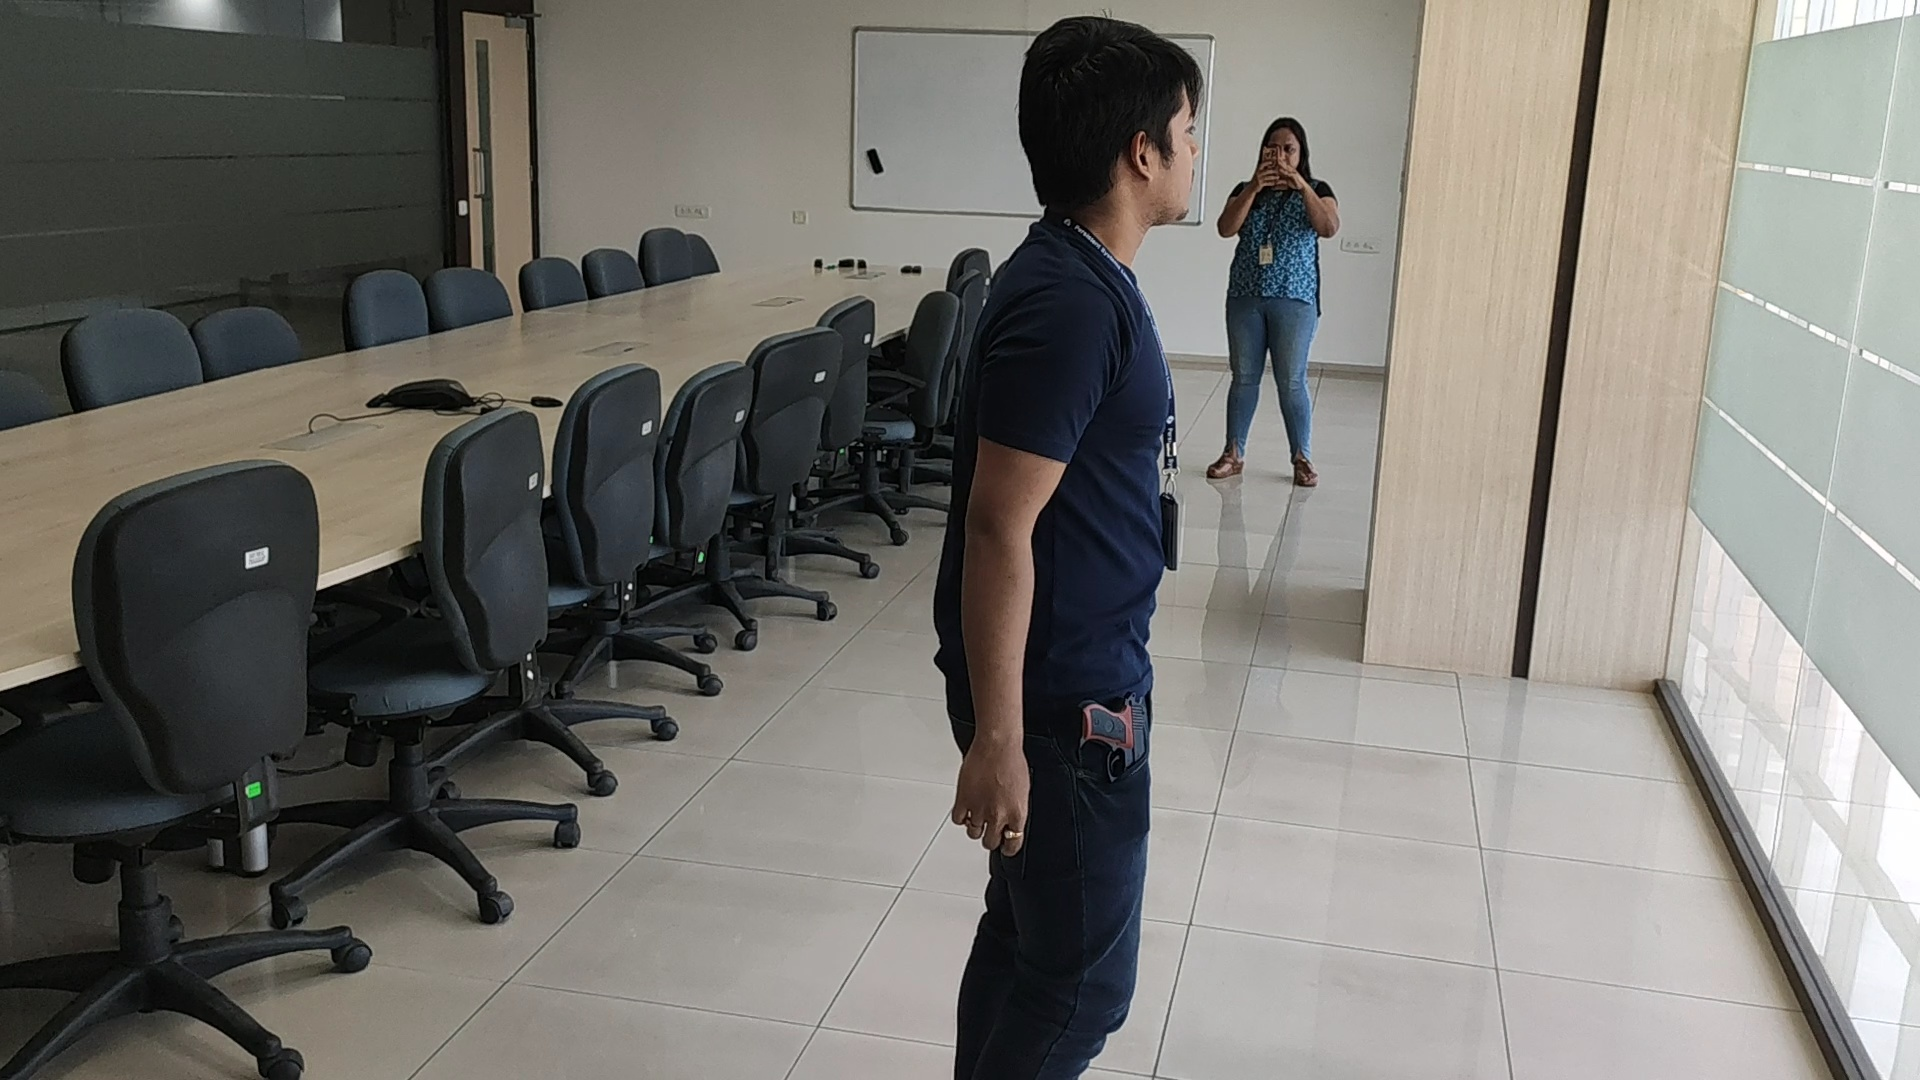gun: (1079, 694, 1149, 783)
